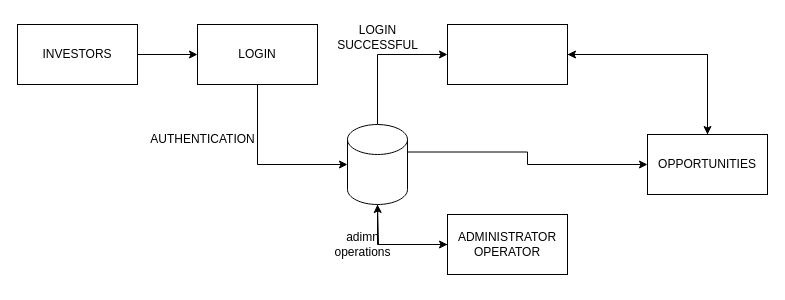
This 785x300 diagram has some shape labels left out. The centre of each missing label's shape, as x and y in pixels:
"DATABASE" belongs at (x=377, y=164).
"INVESTMENT RESOURCE APP" belongs at (x=507, y=54).
